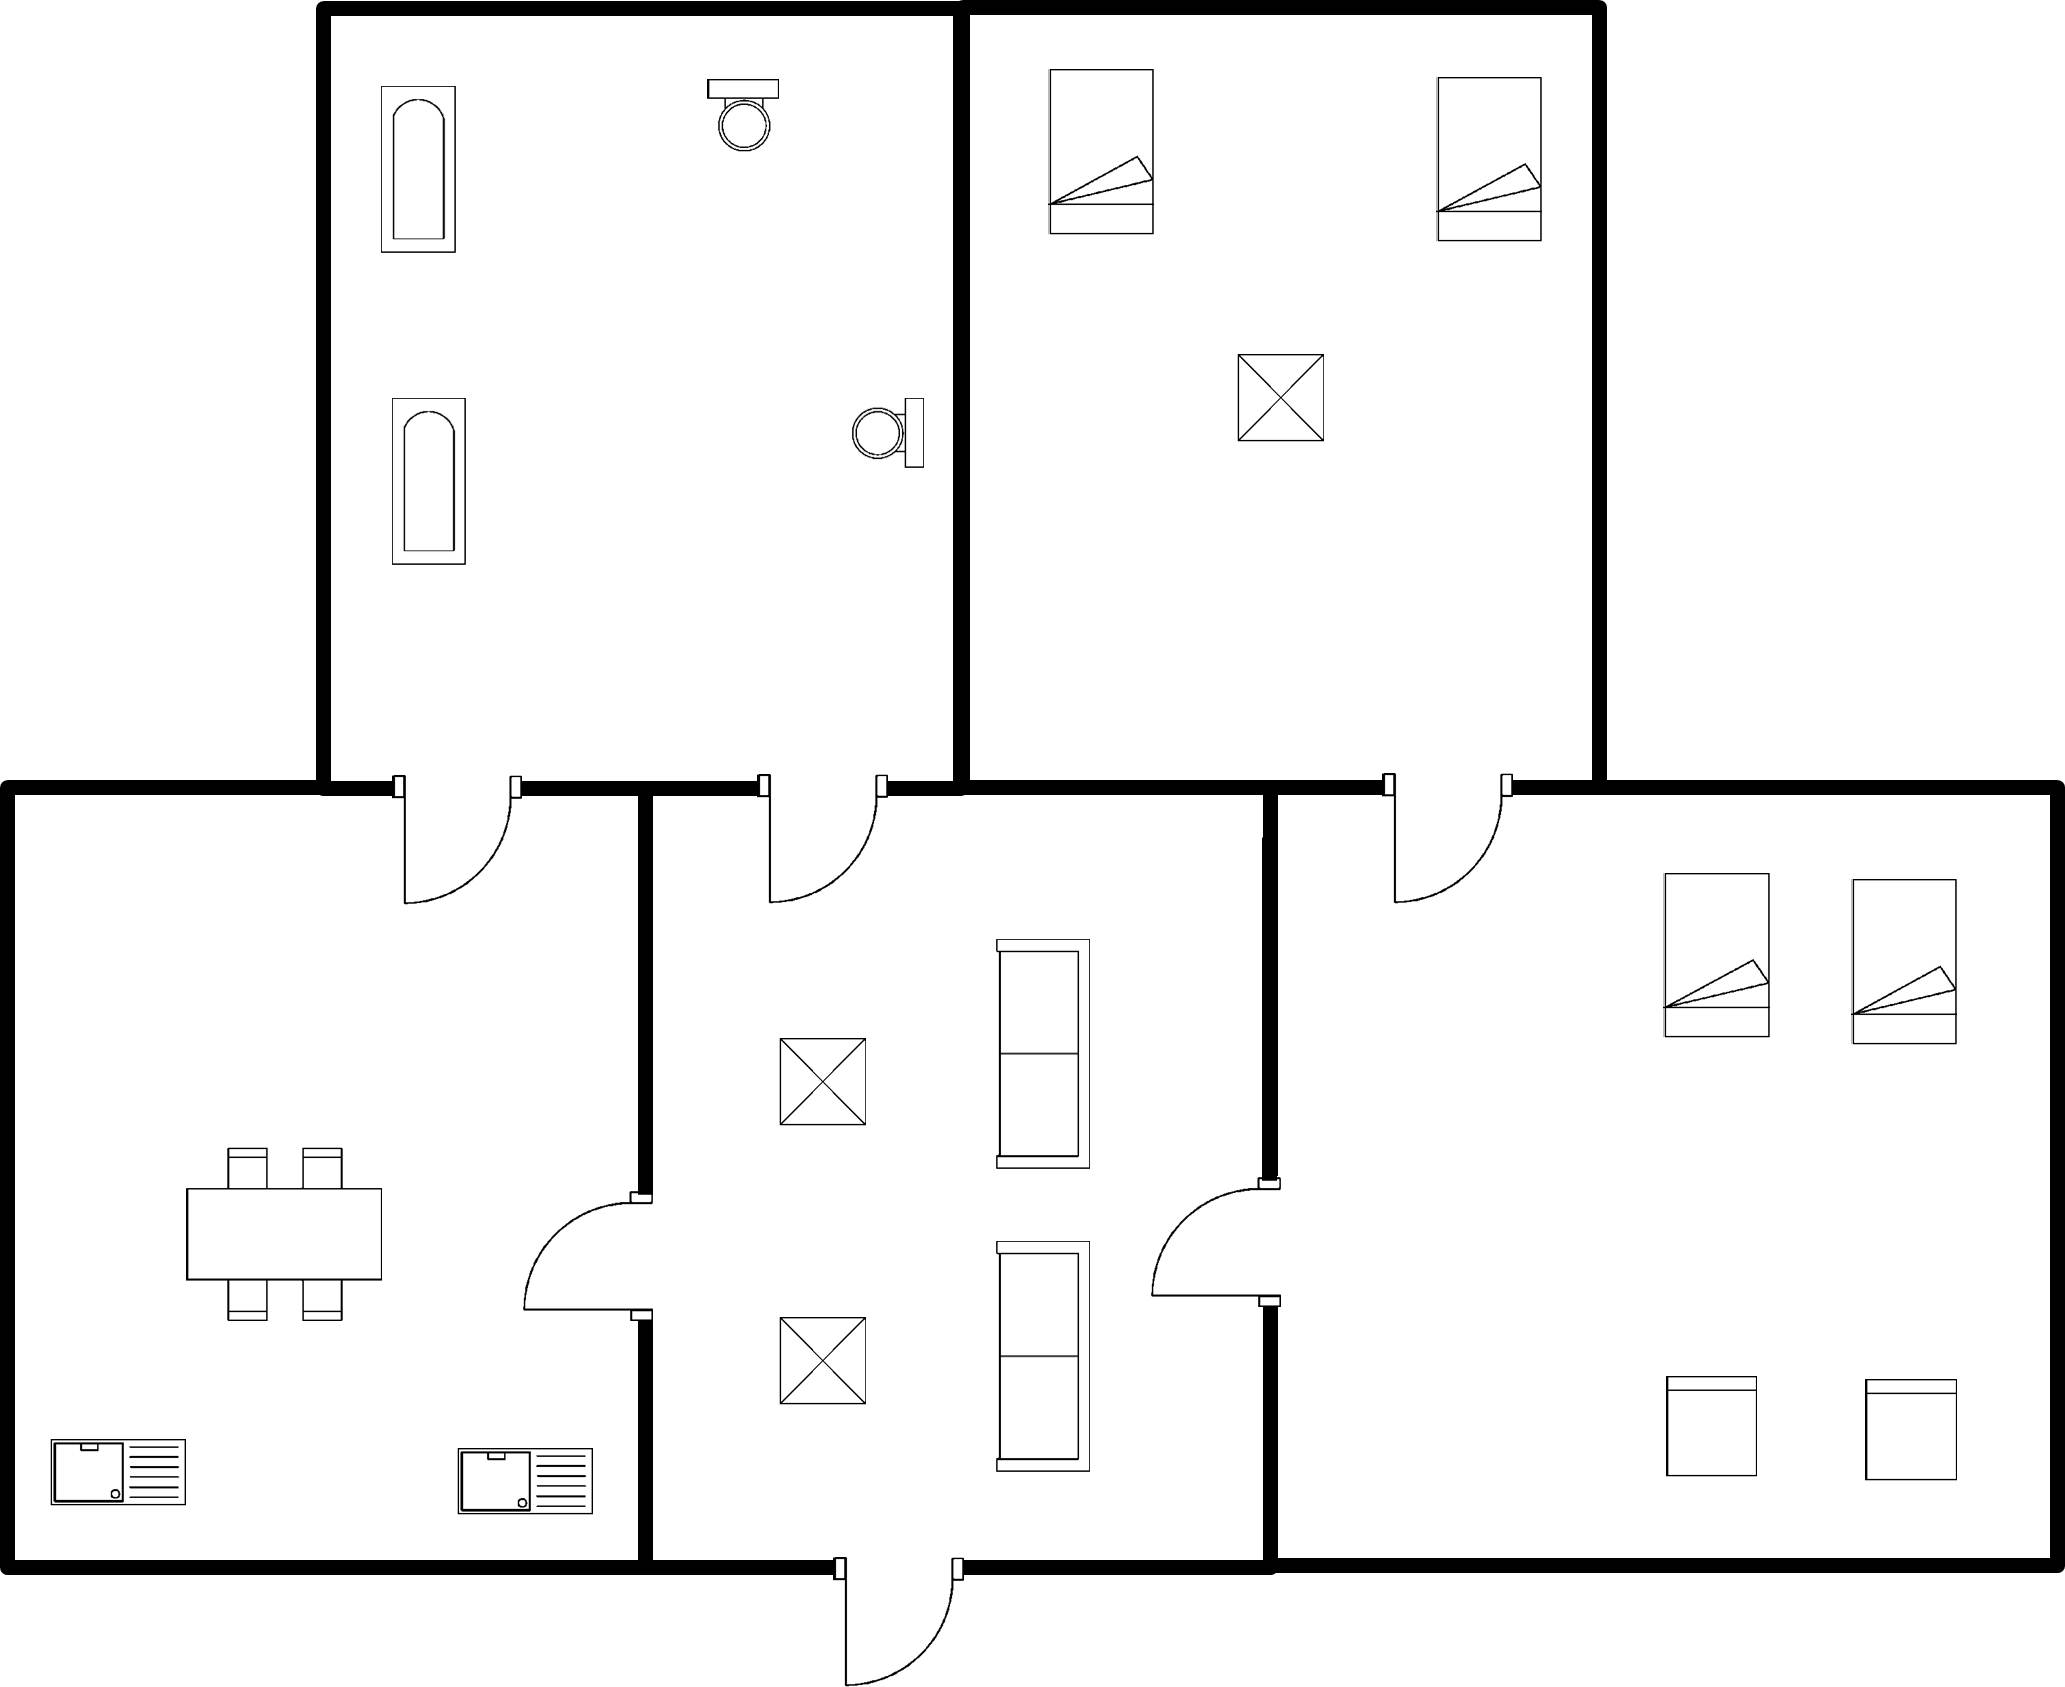bed: (1838, 864, 1974, 1058), (1036, 54, 1167, 243), (1653, 864, 1784, 1054), (1430, 67, 1554, 253)
coffee_table: (1228, 340, 1338, 458), (769, 1312, 879, 1423), (769, 1028, 876, 1140)
dining_table: (172, 1136, 397, 1333)
large_sink: (699, 67, 792, 166), (838, 387, 935, 476)
large_sofa: (984, 1233, 1108, 1489), (987, 927, 1105, 1179)
sink: (41, 1430, 197, 1523), (441, 1435, 605, 1523)
small_sofa: (1656, 1364, 1774, 1492), (1854, 1366, 1969, 1495)
tub: (369, 74, 469, 264), (384, 387, 479, 577)
